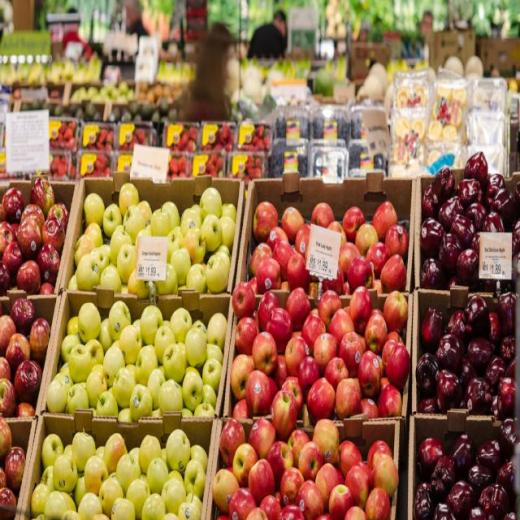Apple: (212, 197, 414, 520), (413, 149, 520, 520), (0, 173, 67, 519), (43, 296, 224, 420), (70, 180, 236, 298), (28, 428, 208, 520), (368, 446, 401, 502)
